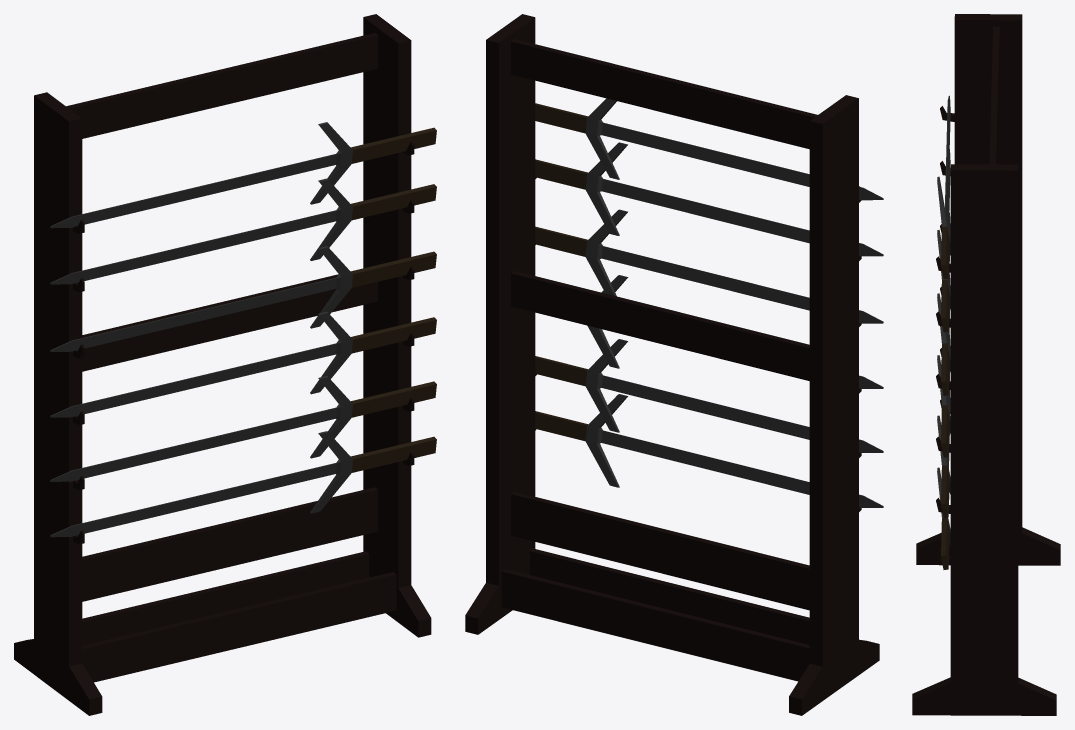
Rendered from SD2wr_rack_swords_2_drf.fbx.
The picture shows the model from 3 angles, left to right: view 1: azimuth 30°, elevation 25°; view 2: azimuth 150°, elevation 25°; view 3: azimuth 270°, elevation 25°; orthographic projection. The views are drawn at different scales.
Visible parts, largest first — view 1: SD2wr_rack_swords_2_drf; view 2: SD2wr_rack_swords_2_drf; view 3: SD2wr_rack_swords_2_drf.
Boxes of the visible parts, x1,y1,x2,y2 form: SD2wr_rack_swords_2_drf: (14, 14, 436, 715); SD2wr_rack_swords_2_drf: (465, 14, 883, 715); SD2wr_rack_swords_2_drf: (912, 14, 1060, 715).
Bounding box in the file's own units: 132 × 47.26 × 192.
